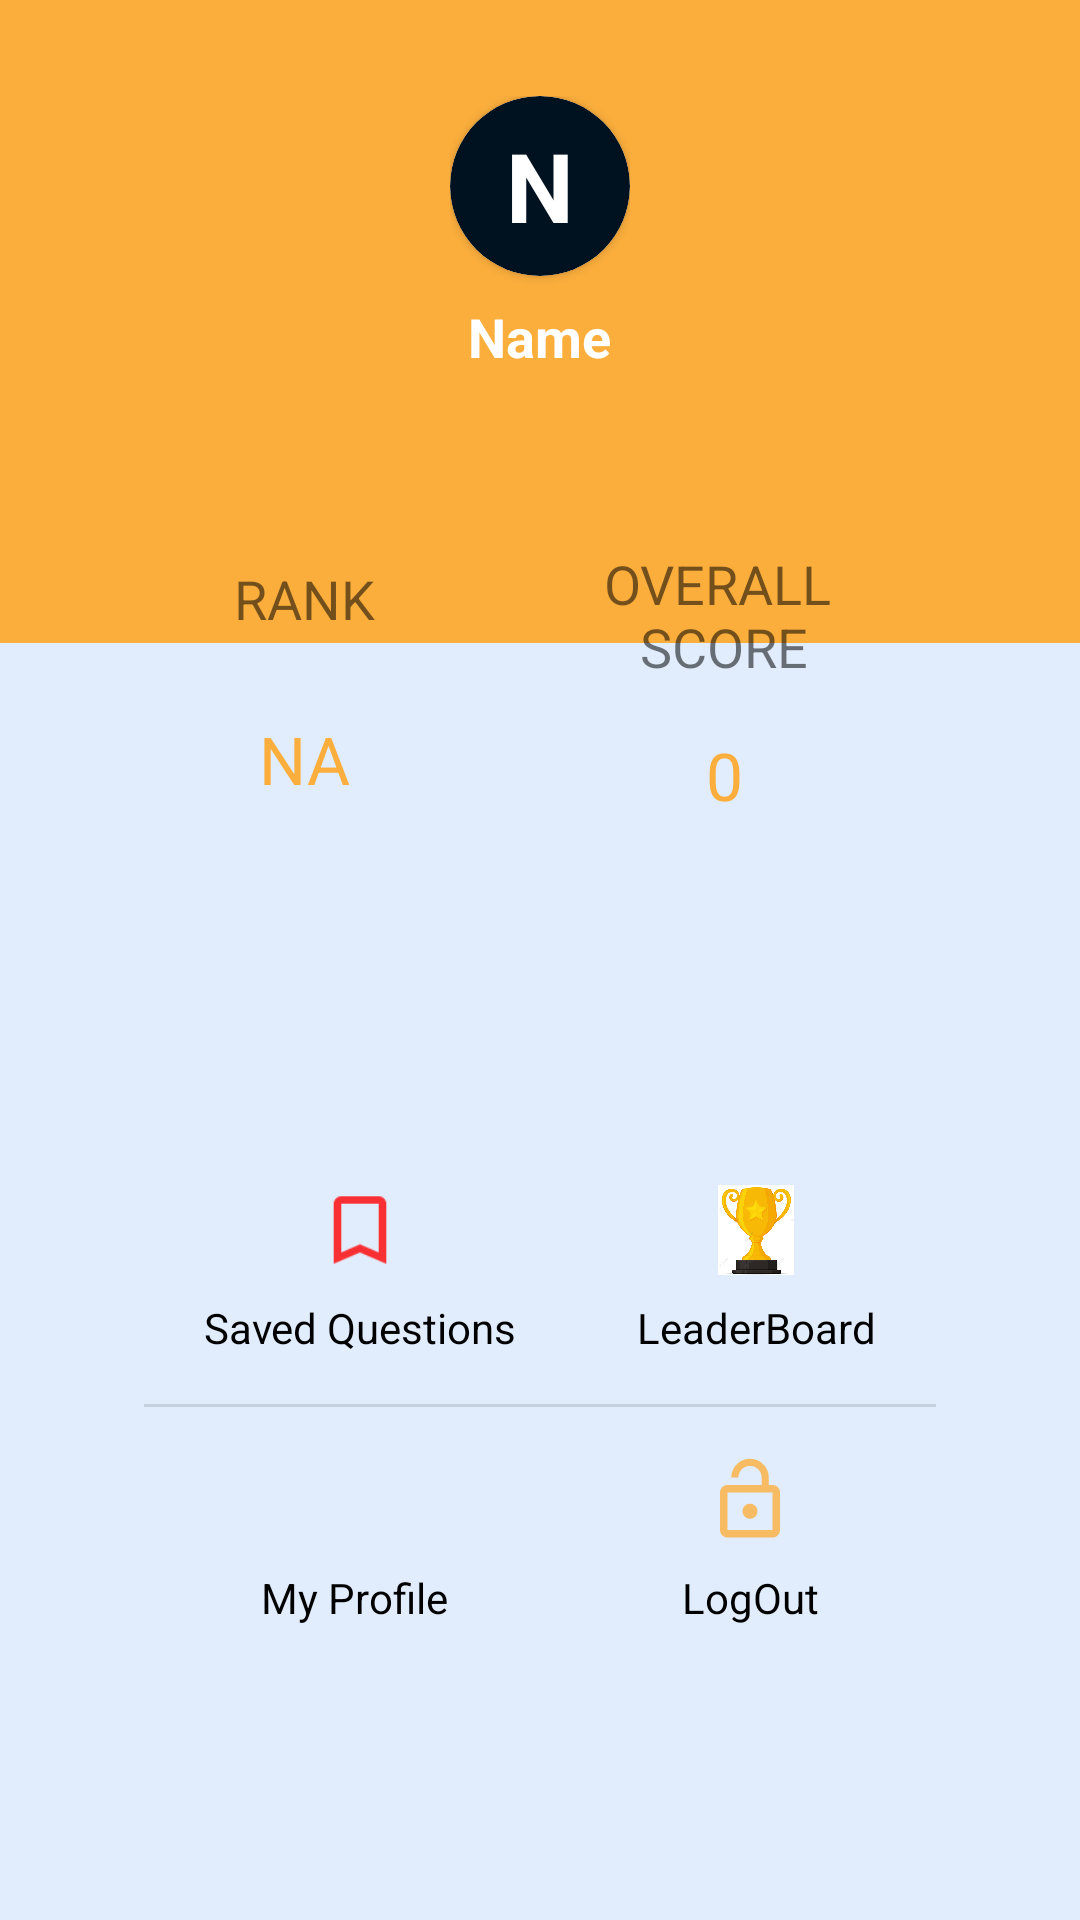

Icon click points for this 1080w x 1920h phone screenshot, format [x,y]:
award: [756,1230]
bookmark: [360,1230]
